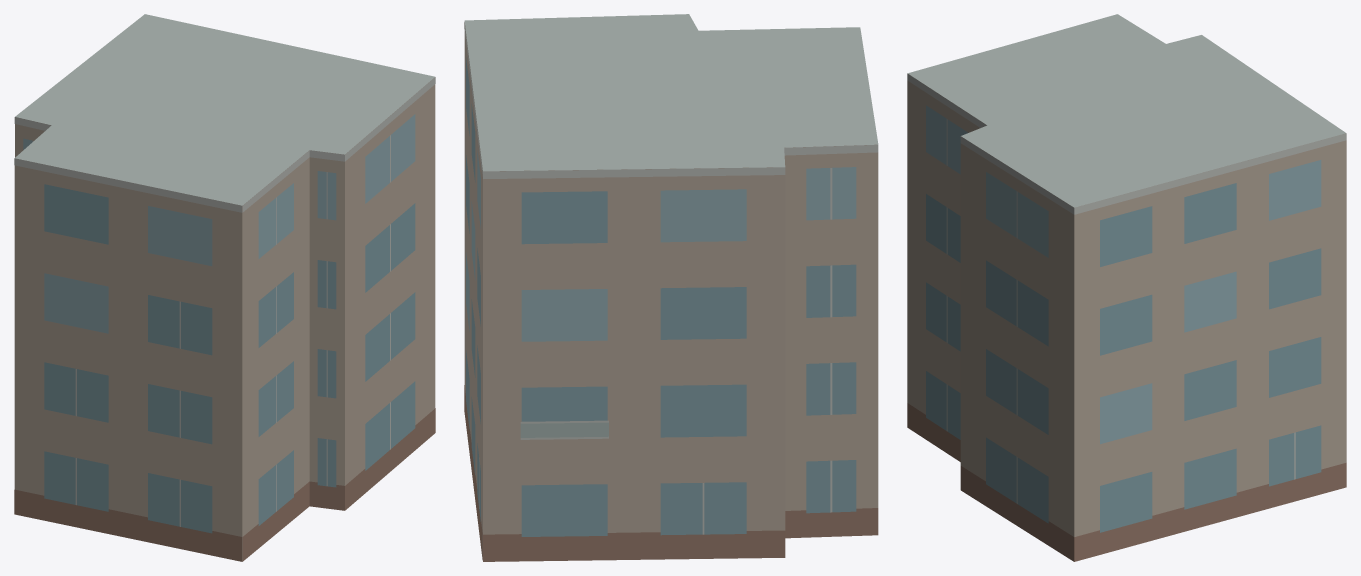
File: survey-upis-32581442.glb
3 views of the same model, side by side, from view 1: azimuth 30°, elevation 25°; view 2: azimuth 150°, elevation 25°; view 3: azimuth 270°, elevation 25° (orthographic). The views are drawn at different scales.
Parts seen in each view (by area): view 1: survey-upis-32581442.tmp; view 2: survey-upis-32581442.tmp; view 3: survey-upis-32581442.tmp.
Part boxes in pixels (bbox=[...]): survey-upis-32581442.tmp: bbox=[14, 14, 435, 561]; survey-upis-32581442.tmp: bbox=[464, 14, 878, 561]; survey-upis-32581442.tmp: bbox=[907, 14, 1346, 561].
Size of the model in its own units: 14.32 by 12.2 by 13.72.
